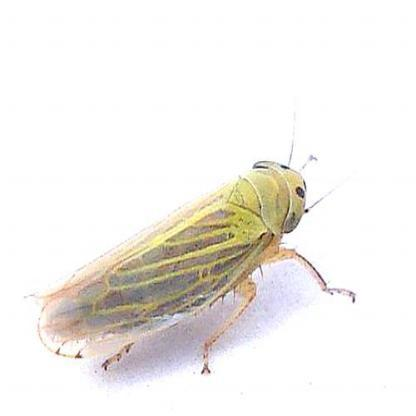green-leafhopper: (26, 160, 360, 374)
